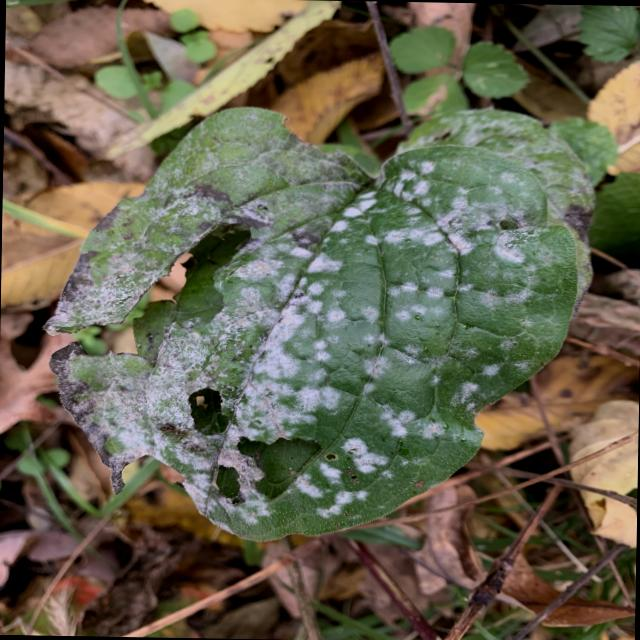powdery_mildew: (48, 107, 584, 540)
